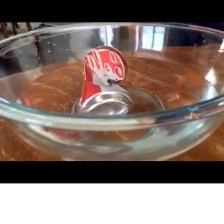can: (67, 41, 132, 123)
